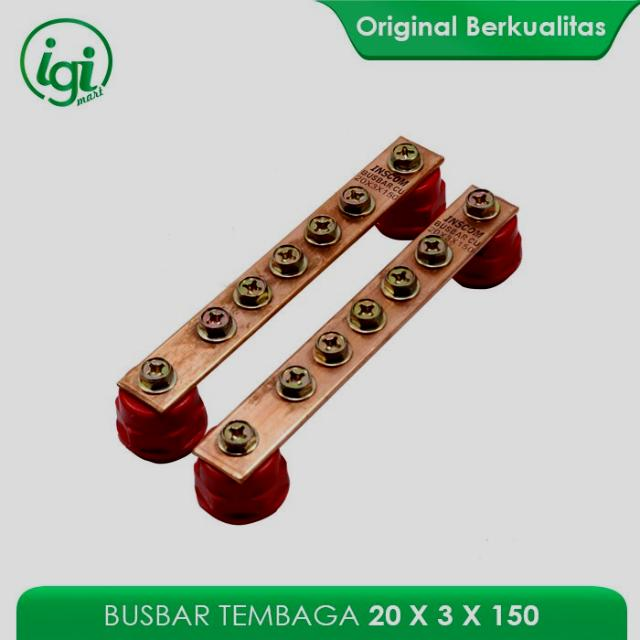busbar: (55, 127, 599, 545)
